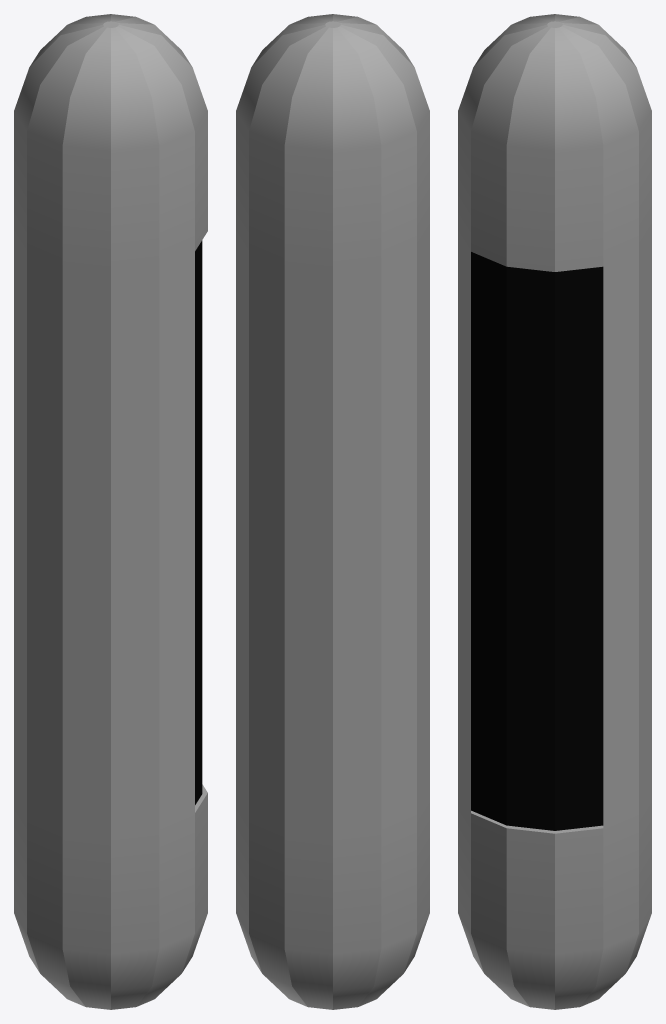
3 renders of one model, left to right at view 1: azimuth 30°, elevation 25°; view 2: azimuth 150°, elevation 25°; view 3: azimuth 270°, elevation 25°, orthographic.
Parts seen in each view (by area): view 1: polySurface2; view 2: polySurface2; view 3: polySurface2.
Part boxes in pixels (left/top/right/bottom): polySurface2: left=14, top=14, right=207, bottom=1009; polySurface2: left=236, top=14, right=429, bottom=1009; polySurface2: left=458, top=14, right=651, bottom=1009.
Size of the model in its own units: 14.53 by 80.58 by 14.53.
2 materials, 1 textured.
